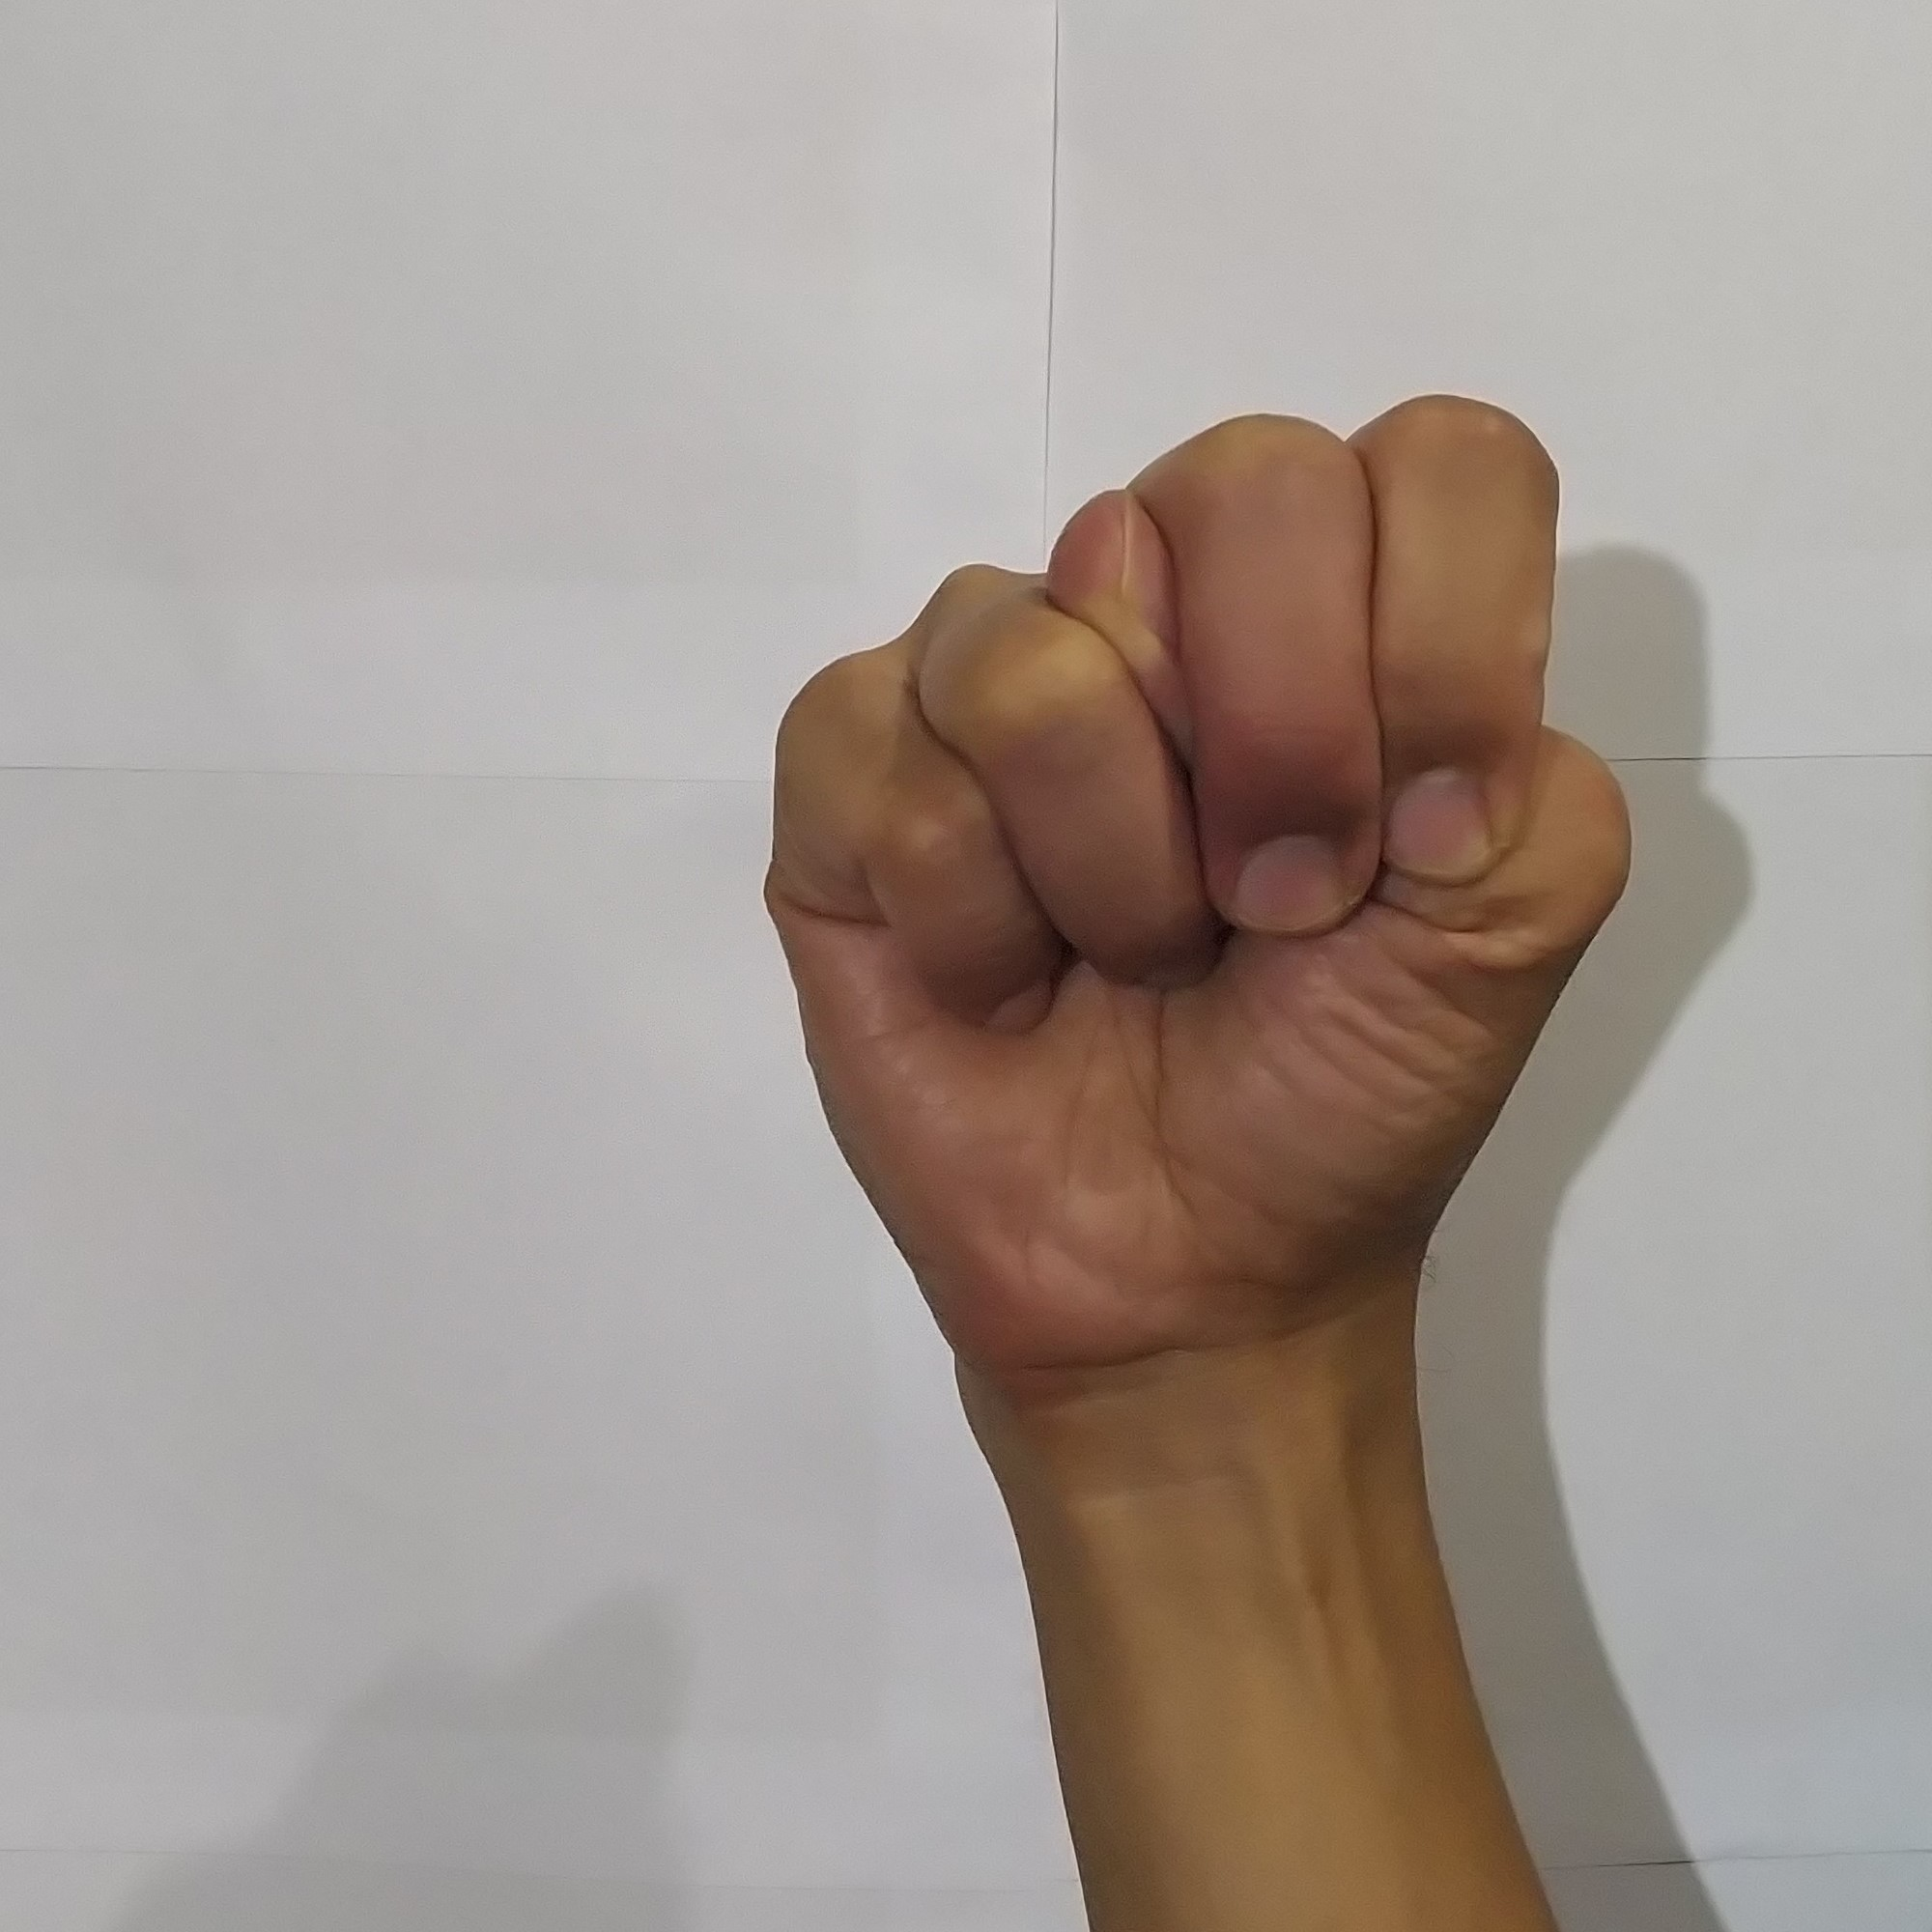N: (732, 373, 1656, 1353)
